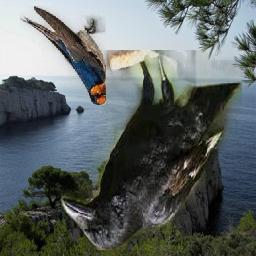Crow: (62, 50, 243, 250)
Swallow: (20, 7, 106, 106)
